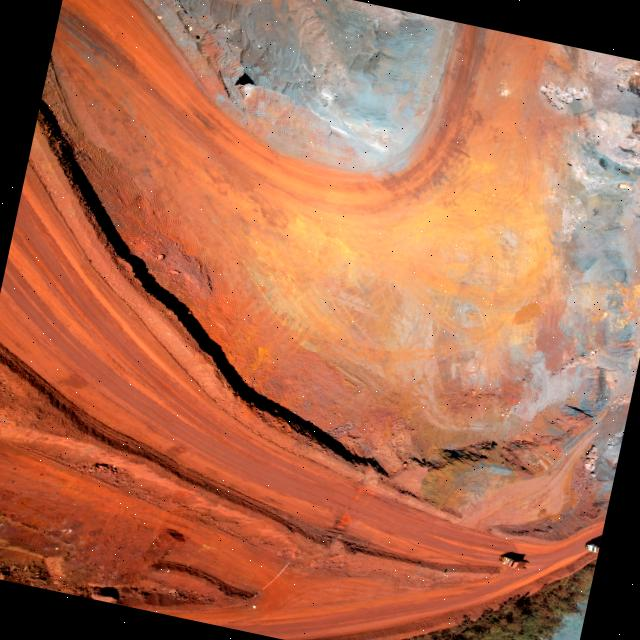Dumper truck: (497, 554, 528, 570), (584, 535, 601, 552)
